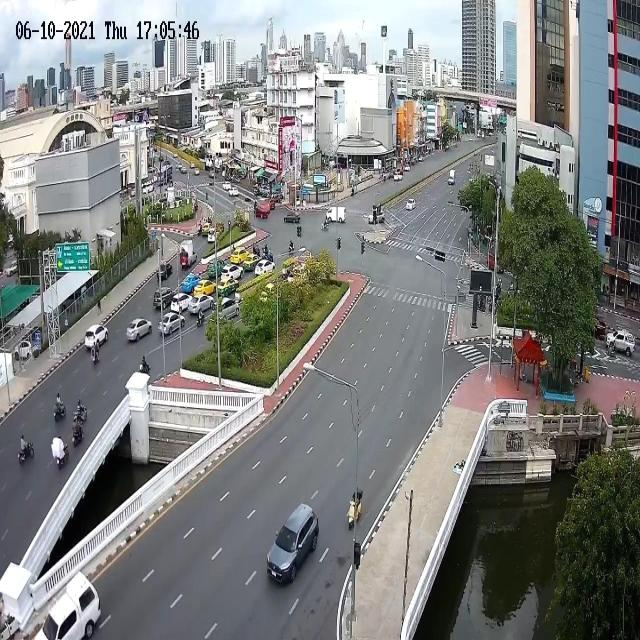Bus: (156, 164, 172, 185)
Car: (30, 570, 100, 640), (267, 505, 319, 581), (158, 312, 185, 336), (86, 324, 110, 350), (126, 318, 152, 341), (153, 287, 177, 308), (188, 295, 214, 314), (182, 272, 204, 294), (14, 341, 38, 361), (170, 293, 192, 314), (218, 277, 239, 297), (220, 264, 244, 281), (207, 258, 227, 278), (194, 279, 216, 297), (230, 247, 250, 265), (254, 259, 276, 275), (592, 316, 606, 341), (242, 254, 262, 271), (367, 210, 385, 226), (6, 260, 19, 276), (284, 212, 300, 224), (208, 228, 220, 242), (228, 186, 239, 198), (202, 223, 212, 236), (265, 198, 275, 210), (406, 198, 415, 210), (394, 172, 403, 182), (223, 181, 231, 191), (209, 170, 216, 178), (180, 166, 187, 174), (193, 168, 200, 175), (176, 162, 182, 170), (404, 163, 410, 170), (419, 155, 424, 161)
Cycle: (348, 487, 363, 528), (18, 440, 35, 466), (56, 444, 69, 469), (72, 422, 84, 447), (72, 406, 88, 424), (53, 402, 66, 421), (90, 346, 100, 365), (139, 362, 151, 377), (606, 346, 618, 359), (477, 300, 486, 311), (321, 220, 328, 230)
Truck: (606, 328, 636, 357), (179, 239, 197, 266), (448, 169, 457, 186)
Van: (326, 206, 346, 223), (256, 198, 271, 219)
